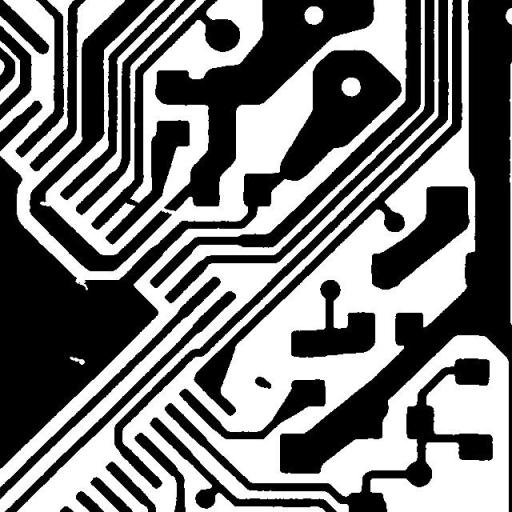copper: (248, 369, 278, 396)
mousebite: (67, 270, 95, 298), (32, 194, 58, 214)
open: (153, 199, 182, 222)
pin-hole: (62, 349, 92, 372)
short: (117, 190, 147, 214)
